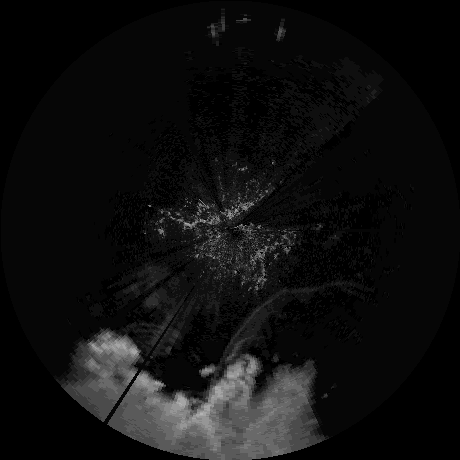frontgust: (225, 281, 337, 355)
